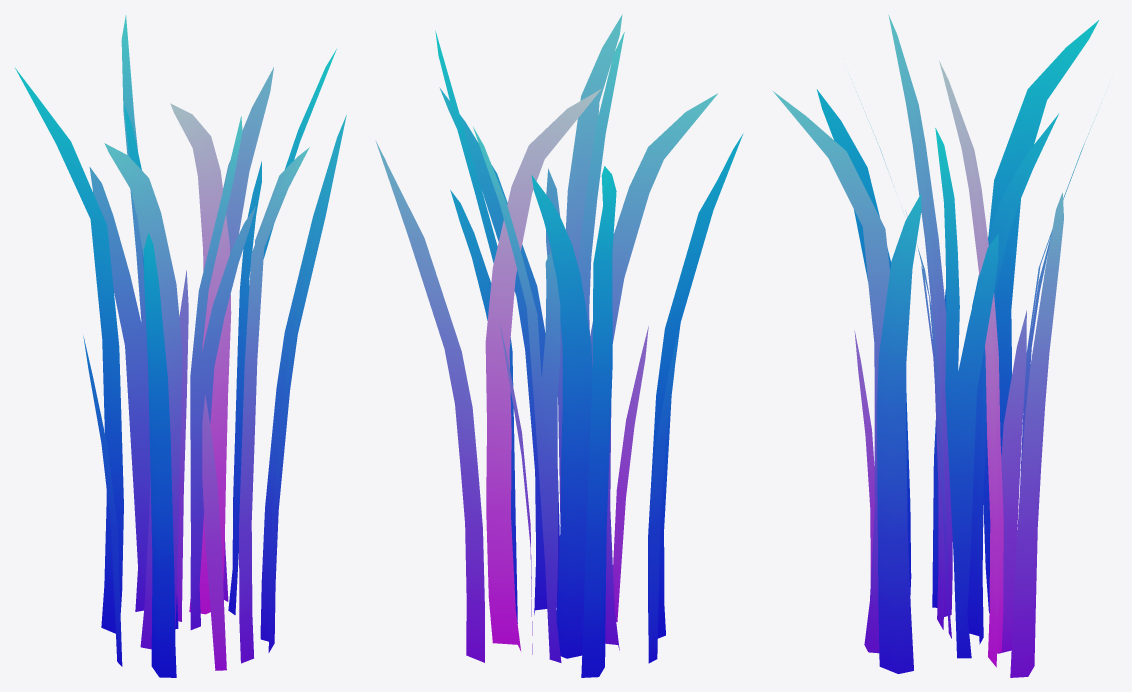
File: q_grass_tall.glb
3 views of the same model, side by side, from view 1: azimuth 30°, elevation 25°; view 2: azimuth 150°, elevation 25°; view 3: azimuth 270°, elevation 25° (orthographic). The views are drawn at different scales.
Visible parts, largest first — view 1: Grass; view 2: Grass; view 3: Grass.
Boxes of the visible parts, left/top/right/bottom form: Grass: left=15, top=15, right=346, bottom=677; Grass: left=375, top=14, right=743, bottom=677; Grass: left=773, top=15, right=1101, bottom=677.
Bounding box in the file's own units: 0.2007 × 0.42 × 0.2227.
